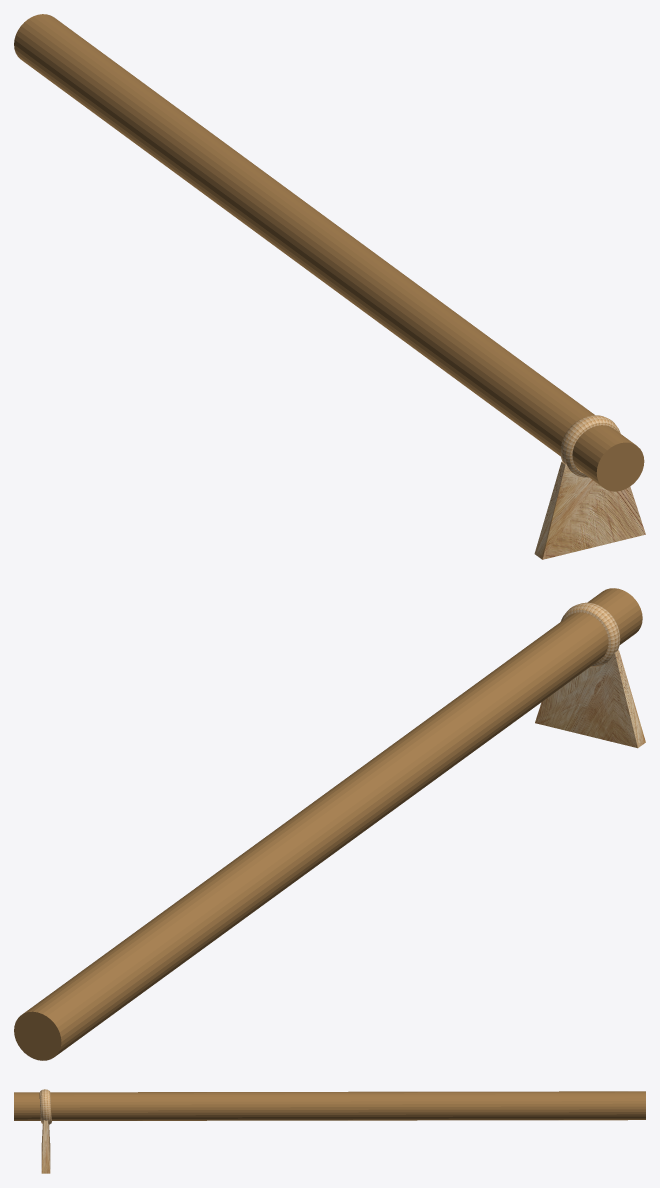
Rendered from azada.obj.
3 renders of one model, top to bottom at view 1: azimuth 30°, elevation 25°; view 2: azimuth 150°, elevation 25°; view 3: azimuth 270°, elevation 25°, orthographic. The views are drawn at different scales.
Visible parts, largest first — view 1: Cylinder; view 2: Cylinder; view 3: Cylinder.
Part boxes in pixels (box(x1,y1,x2,y2)): Cylinder: box(14, 14, 645, 559); Cylinder: box(14, 588, 645, 1060); Cylinder: box(14, 1089, 645, 1173).
Bounding box in the file's own units: 0.8353 × 0.9849 × 8.15.
Materials: 2 (2 with a texture image).
